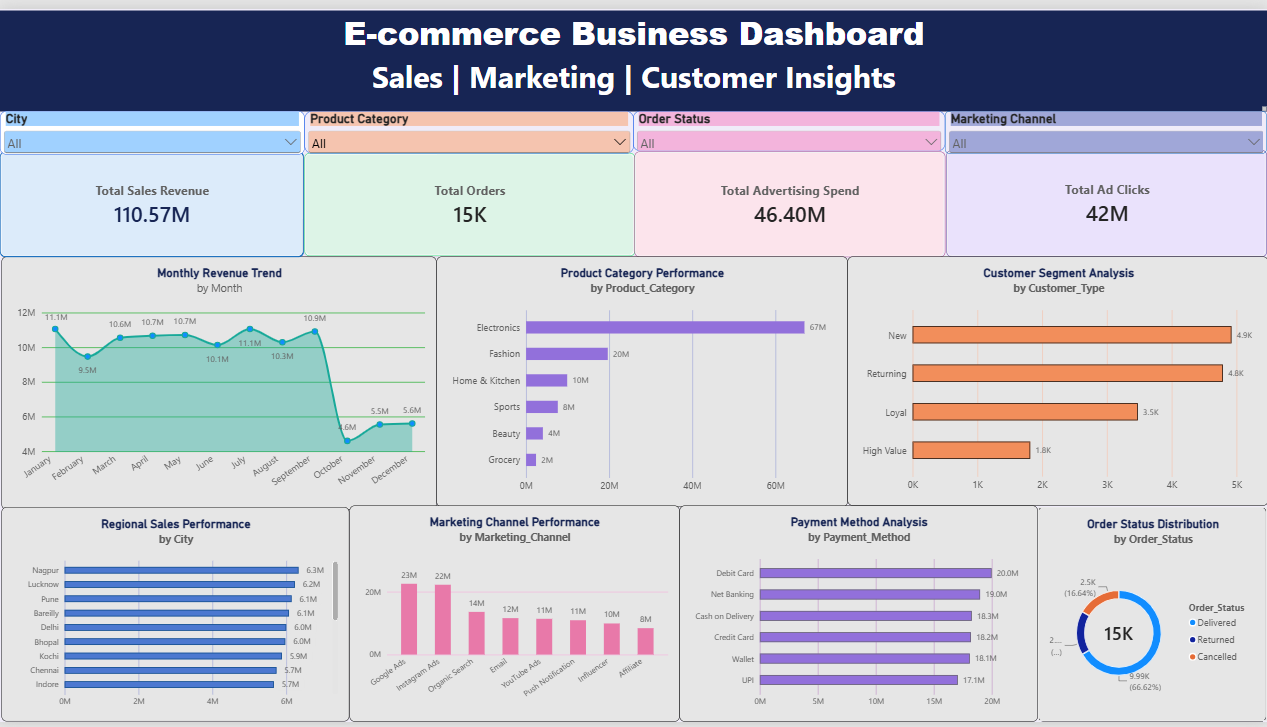

This screenshot's page, from the dashboard's own definition file:
{"tool":"powerbi","page":{"name":"Page 2","canvas":[1920,1080],"ordinal":1},"visuals":[{"type":"lineChart","fields":{"Category":["EcommerceMarketingData.Order_Date.Variation.Date Hierarchy.Year","EcommerceMarketingData.Order_Date.Variation.Date Hierarchy.Quarter","EcommerceMarketingData.Order_Date.Variation.Date Hierarchy.Month","EcommerceMarketingData.Order_Date.Variation.Date Hierarchy.Day"],"Y":["Sum(EcommerceMarketingData.Sales_Amount_INR)"]},"box":[2,375.1,659,383.2],"z":0},{"type":"textbox","box":[32.5,0,1887.5,152.5],"z":1000},{"type":"textbox","title":"E-commerce Business Dashboard ","box":[0,2.3,1919.3,152.2],"z":2000},{"type":"cardVisual","fields":{"Data":["Sum(EcommerceMarketingData.Sales_Amount_INR)"]},"box":[0,214.9,460.3,160.2],"z":3000},{"type":"cardVisual","fields":{"Data":["Count(EcommerceMarketingData.Order_ID)"]},"box":[460.3,219,500.8,156.1],"z":4000},{"type":"cardVisual","fields":{"Data":["Sum(EcommerceMarketingData.Ad_Spend_INR)"]},"box":[961.1,214.9,470.4,160.2],"z":5000},{"type":"cardVisual","fields":{"Data":["Sum(EcommerceMarketingData.Ad_Clicks)"]},"box":[1433.5,212.9,486.6,162.2],"z":6000},{"type":"clusteredBarChart","fields":{"Category":["EcommerceMarketingData.Product_Category"],"Y":["Sum(EcommerceMarketingData.Sales_Amount_INR)"]},"box":[661,375.1,622.5,379.2],"z":7000},{"type":"donutChart","fields":{"Category":["EcommerceMarketingData.Order_Status"],"Y":["Count(EcommerceMarketingData.Order_ID)"]},"box":[1571.7,754.1,347.5,324.8],"z":8000},{"type":"clusteredBarChart","fields":{"Category":["EcommerceMarketingData.City"],"Y":["Sum(EcommerceMarketingData.Sales_Amount_INR)"]},"box":[2.3,754.1,526.9,324.8],"z":9000},{"type":"clusteredColumnChart","fields":{"Category":["EcommerceMarketingData.Marketing_Channel"],"Y":["Sum(EcommerceMarketingData.Sales_Amount_INR)"]},"box":[529.2,751.8,499.7,327.1],"z":10000},{"type":"clusteredBarChart","fields":{"Category":["EcommerceMarketingData.Customer_Type"],"Y":["CountNonNull(EcommerceMarketingData.Order_ID)"]},"box":[1283.5,375.1,638.7,377.1],"z":11000},{"type":"slicer","fields":{"Values":["EcommerceMarketingData.City"]},"box":[0,154.4,461.1,65.9],"z":12000},{"type":"slicer","fields":{"Values":["EcommerceMarketingData.Product_Category"]},"box":[460.3,154.1,498.8,64.9],"z":13000},{"type":"slicer","fields":{"Values":["EcommerceMarketingData.Marketing_Channel"]},"box":[1431.5,154.1,488.6,64.9],"z":14000},{"type":"slicer","fields":{"Values":["EcommerceMarketingData.Order_Status"]},"box":[959,154.1,472.4,60.8],"z":15000},{"type":"clusteredBarChart","fields":{"Category":["EcommerceMarketingData.Payment_Method"],"Y":["Sum(EcommerceMarketingData.Sales_Amount_INR)"]},"box":[1028.9,751.8,542.8,327.1],"z":15001}]}

Visuals, with their boxes in screenshot pixels (x1, y1, x2, y2), scaled from the page's 1920x1080 canvas onto the 1267x727 screenshot:
lineChart - EcommerceMarketingData.Order_Date.Variation.Date Hierarchy.Year x EcommerceMarketingData.Order_Date.Variation.Date Hierarchy.Quarter: {"left": 1, "top": 252, "right": 436, "bottom": 510}
textbox: {"left": 21, "top": 0, "right": 1266, "bottom": 103}
"E-commerce Business Dashboard " textbox: {"left": 0, "top": 2, "right": 1266, "bottom": 104}
cardVisual - Sum(EcommerceMarketingData.Sales_Amount_INR): {"left": 0, "top": 145, "right": 304, "bottom": 252}
cardVisual - Count(EcommerceMarketingData.Order_ID): {"left": 304, "top": 147, "right": 634, "bottom": 252}
cardVisual - Sum(EcommerceMarketingData.Ad_Spend_INR): {"left": 634, "top": 145, "right": 945, "bottom": 252}
cardVisual - Sum(EcommerceMarketingData.Ad_Clicks): {"left": 946, "top": 143, "right": 1266, "bottom": 252}
clusteredBarChart - EcommerceMarketingData.Product_Category x Sum(EcommerceMarketingData.Sales_Amount_INR): {"left": 436, "top": 252, "right": 847, "bottom": 508}
donutChart - EcommerceMarketingData.Order_Status x Count(EcommerceMarketingData.Order_ID): {"left": 1037, "top": 508, "right": 1266, "bottom": 726}
clusteredBarChart - EcommerceMarketingData.City x Sum(EcommerceMarketingData.Sales_Amount_INR): {"left": 2, "top": 508, "right": 349, "bottom": 726}
clusteredColumnChart - EcommerceMarketingData.Marketing_Channel x Sum(EcommerceMarketingData.Sales_Amount_INR): {"left": 349, "top": 506, "right": 679, "bottom": 726}
clusteredBarChart - EcommerceMarketingData.Customer_Type x CountNonNull(EcommerceMarketingData.Order_ID): {"left": 847, "top": 252, "right": 1266, "bottom": 506}
slicer - EcommerceMarketingData.City: {"left": 0, "top": 104, "right": 304, "bottom": 148}
slicer - EcommerceMarketingData.Product_Category: {"left": 304, "top": 104, "right": 633, "bottom": 147}
slicer - EcommerceMarketingData.Marketing_Channel: {"left": 945, "top": 104, "right": 1266, "bottom": 147}
slicer - EcommerceMarketingData.Order_Status: {"left": 633, "top": 104, "right": 945, "bottom": 145}
clusteredBarChart - EcommerceMarketingData.Payment_Method x Sum(EcommerceMarketingData.Sales_Amount_INR): {"left": 679, "top": 506, "right": 1037, "bottom": 726}
